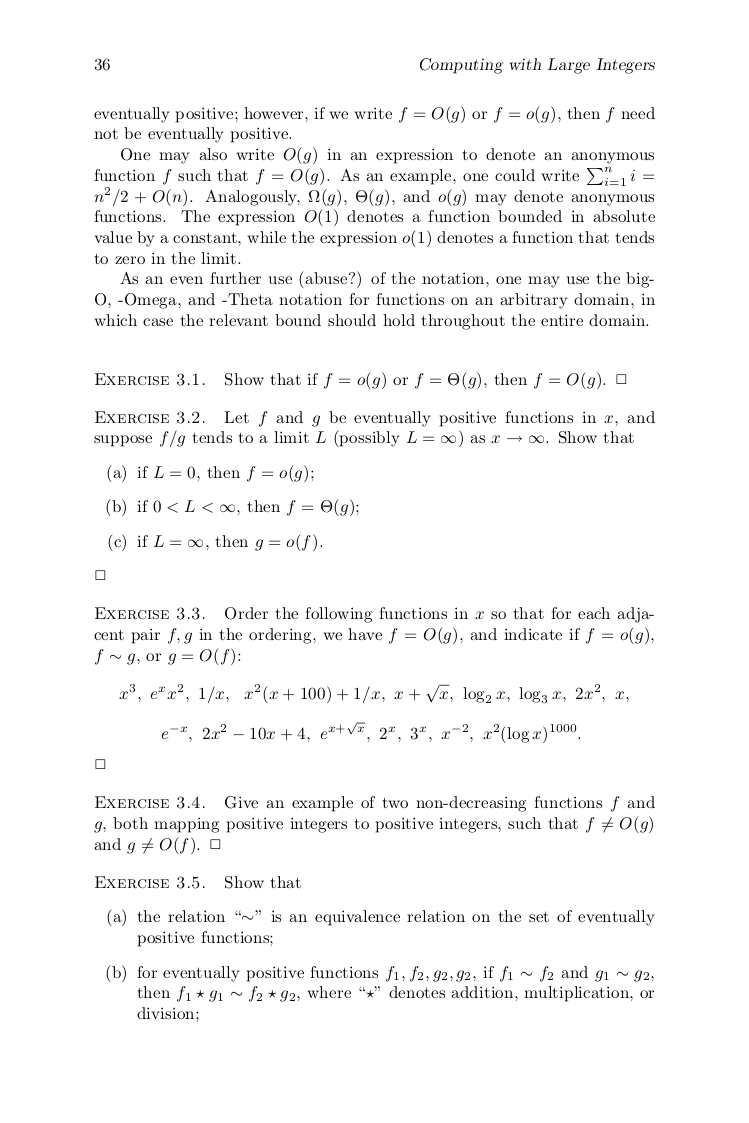formula: (119, 682, 628, 704), (161, 721, 580, 744)
